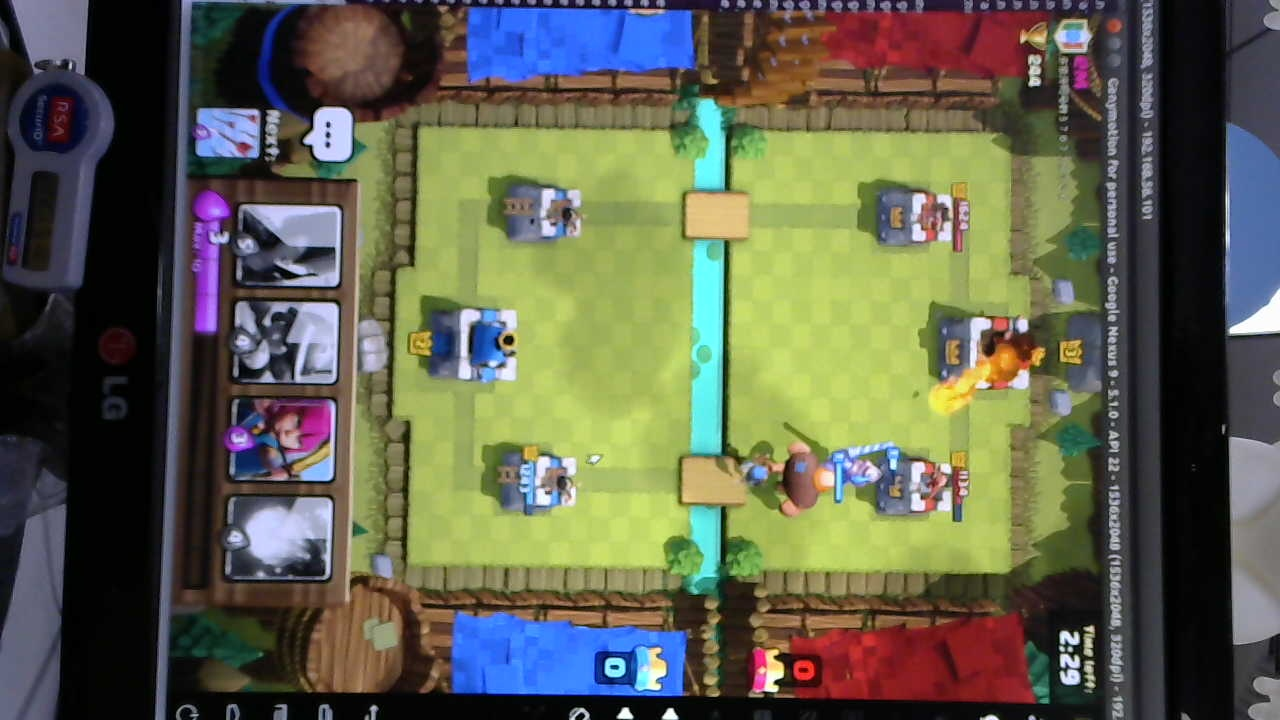arena: (496, 449, 582, 514), (501, 181, 585, 244)
bomb: (735, 449, 770, 498)
earena: (874, 187, 954, 250), (879, 457, 953, 517)
eking: (939, 309, 1045, 393)
giant: (775, 437, 835, 524)
king: (431, 303, 523, 386)
prince: (835, 433, 891, 505)
